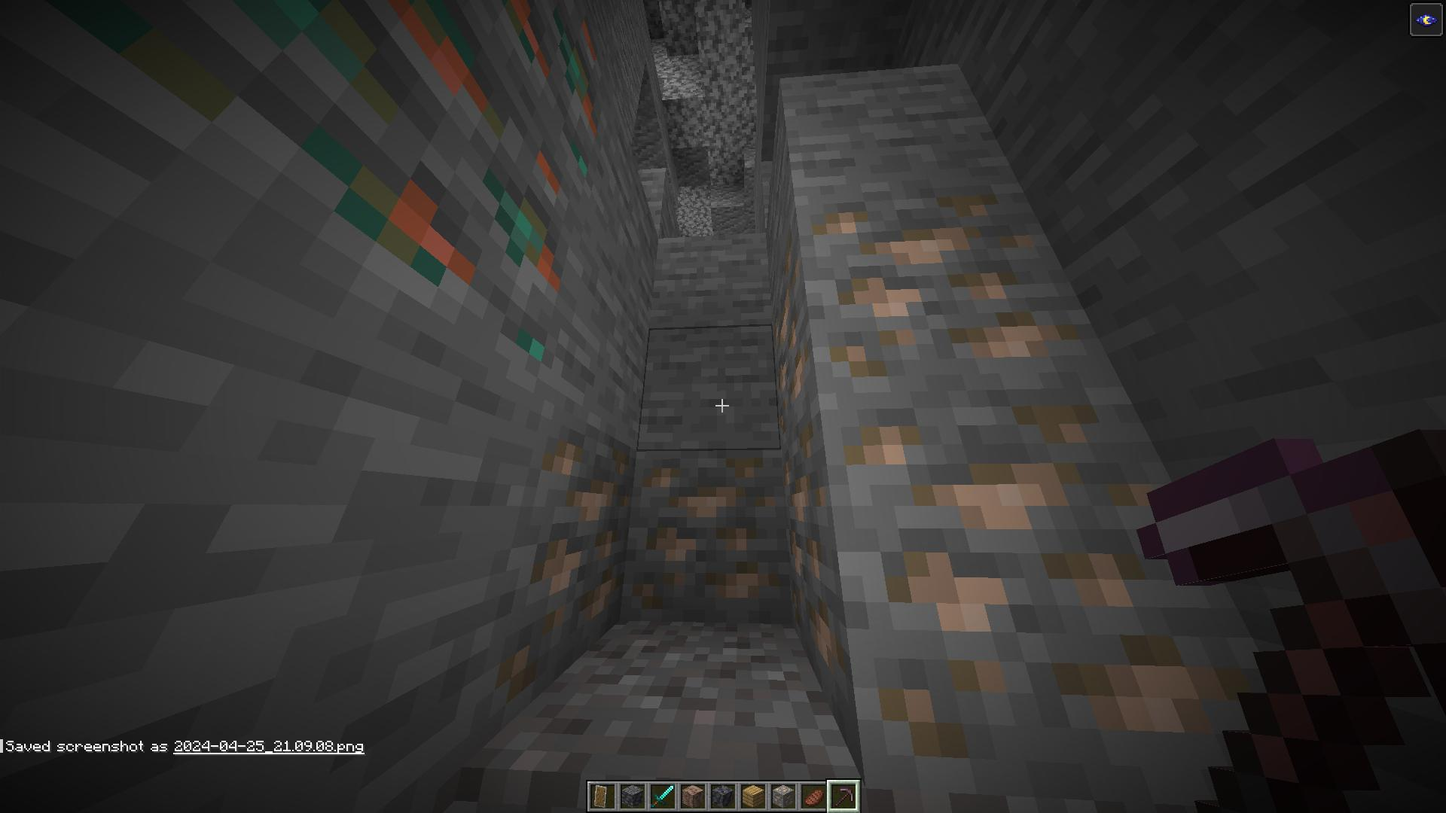iron ore: (853, 399, 1242, 753), (806, 196, 1081, 384), (506, 433, 629, 701), (635, 457, 786, 625), (778, 430, 856, 684), (772, 249, 814, 429)
